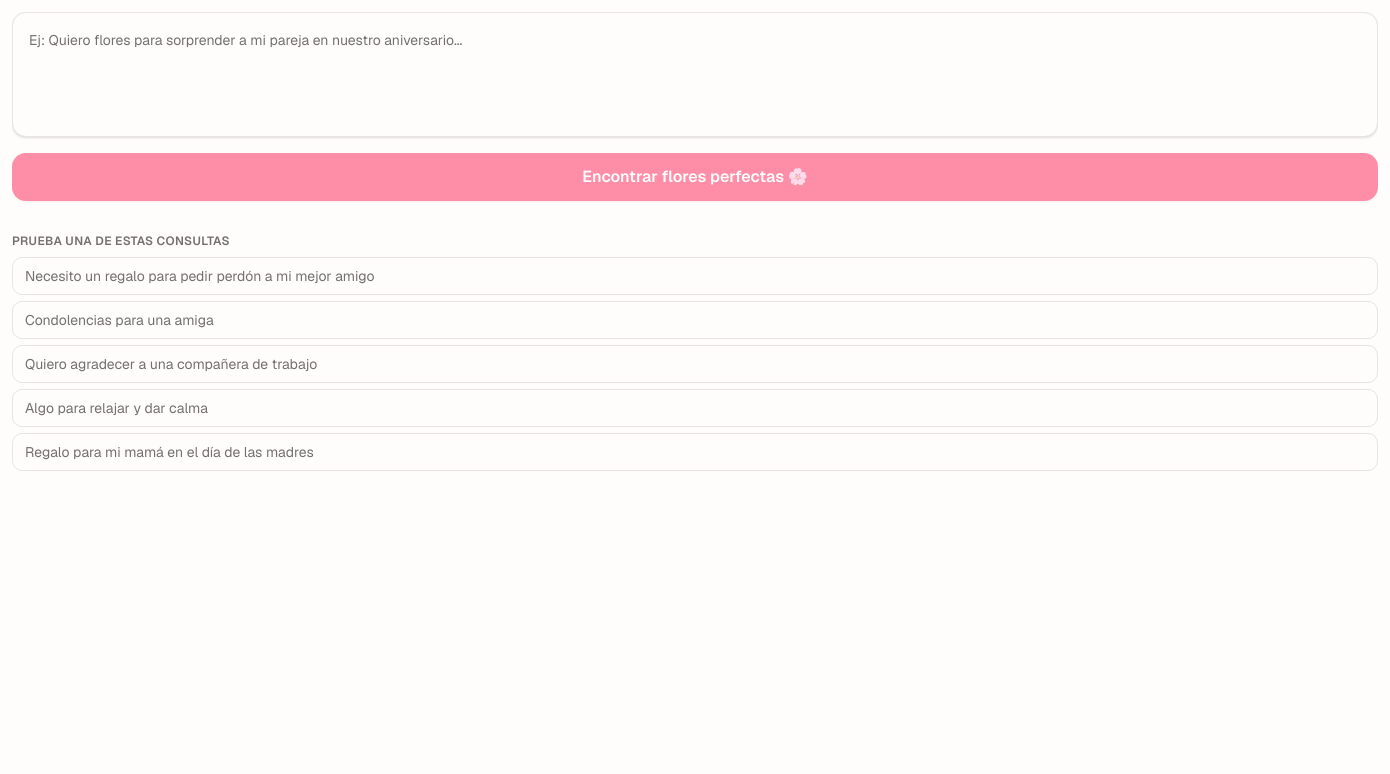
it: RecomendadorForm › muestra 'Luto / condolencias' y contexto Amistad para luto+amistad
Replace the text in the text box with "condolencias para mi amiga" at (695, 74), box [12,12,1378,137]
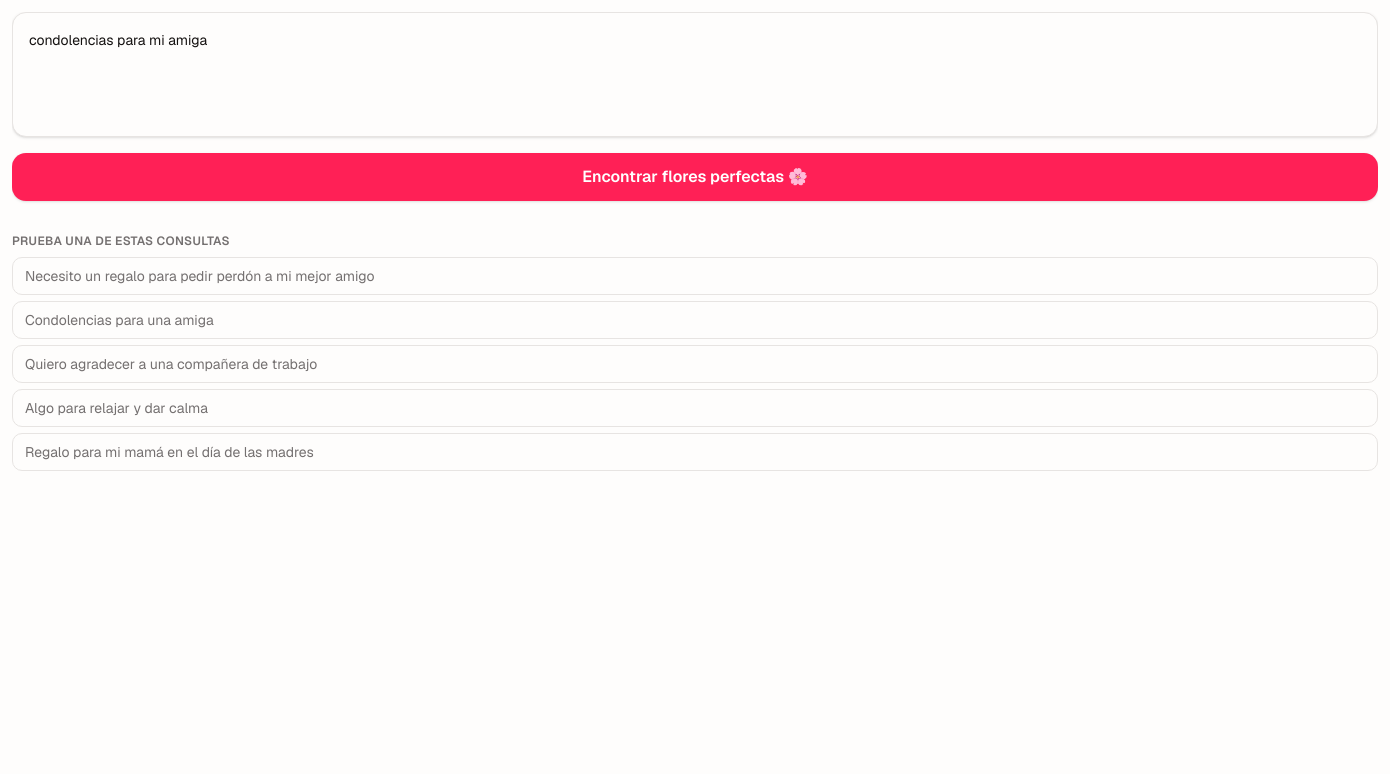
Click the button "Encontrar flores perfectas 🌸".
click(695, 177)  # box [12,153,1378,201]
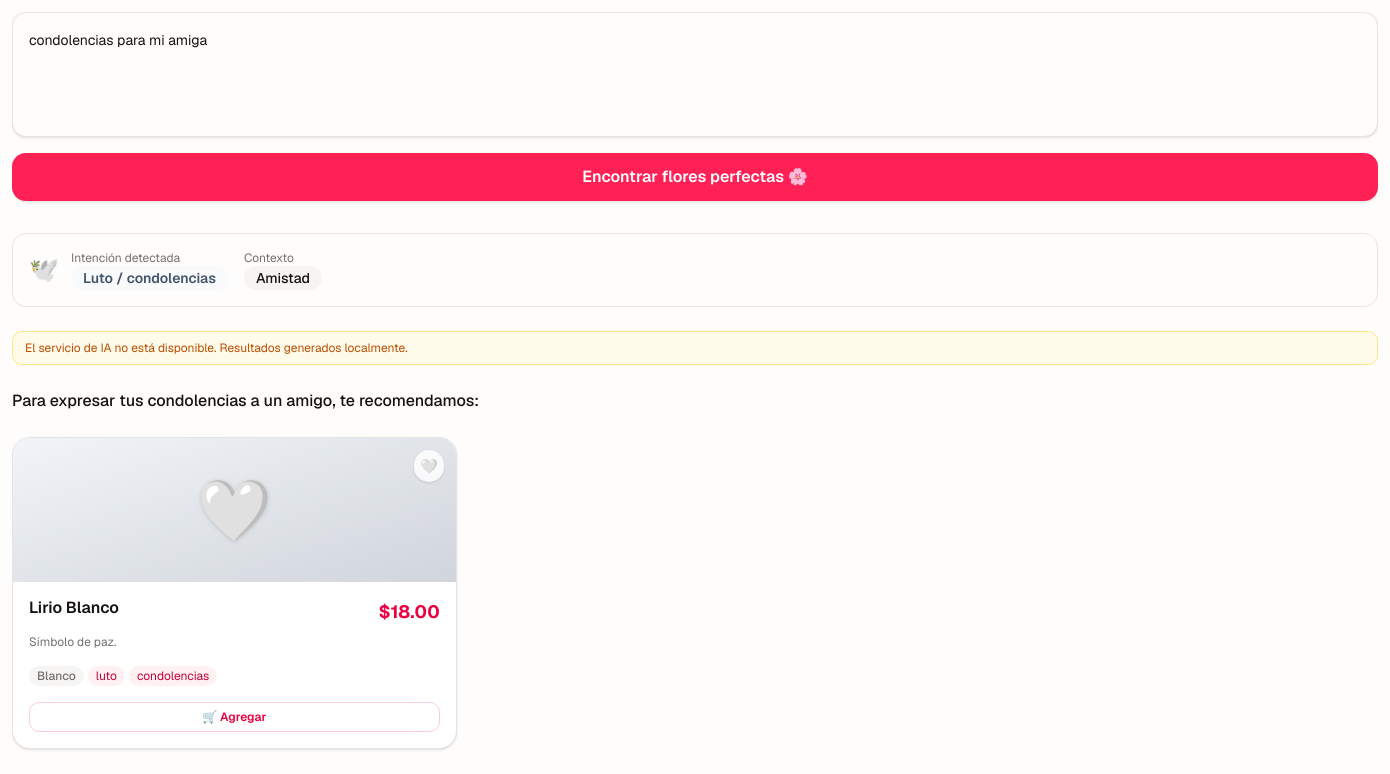
Result: the text "Luto / condolencias" is shown at [71,266,228,290]
Result: the text "Amistad" is shown at [244,266,322,290]
